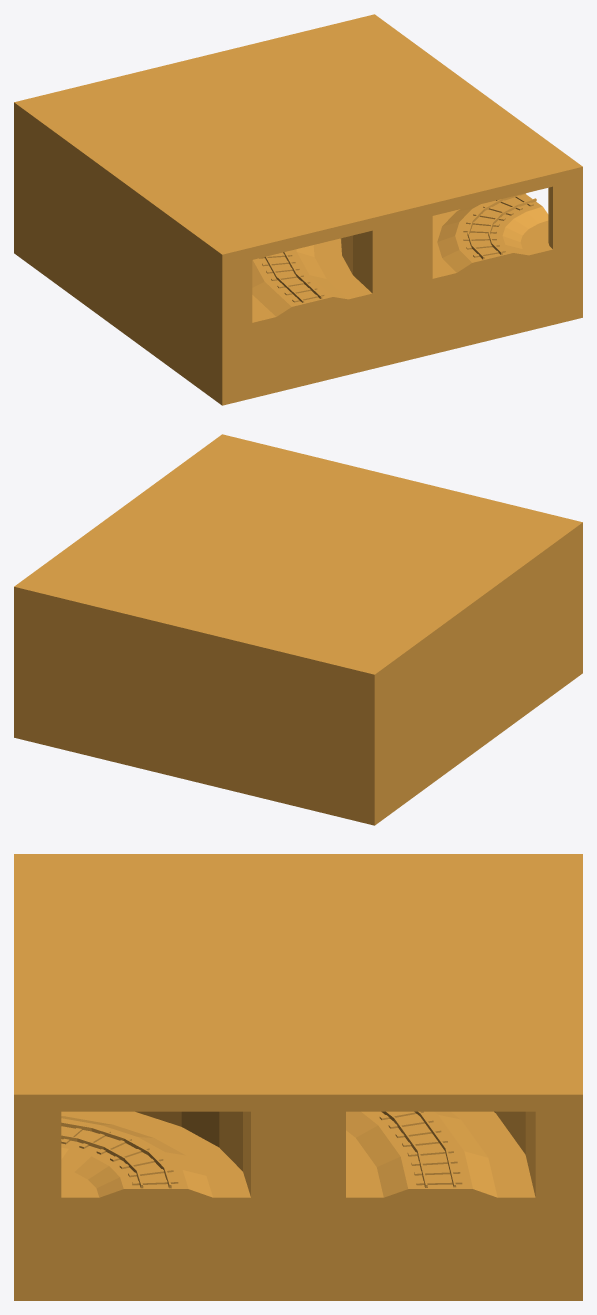
Rendered from tile-rail-tunnel-curve-double.glb.
3 views of the same model, one above another, from view 1: azimuth 30°, elevation 25°; view 2: azimuth 150°, elevation 25°; view 3: azimuth 270°, elevation 25° (orthographic). The views are drawn at different scales.
Parts seen in each view (by area): view 1: tile-rail-tunnel-curve-double; view 2: tile-rail-tunnel-curve-double; view 3: tile-rail-tunnel-curve-double.
Part boxes in pixels (x1=…): tile-rail-tunnel-curve-double: x1=14, y1=14, x2=582, y2=405; tile-rail-tunnel-curve-double: x1=14, y1=434, x2=582, y2=825; tile-rail-tunnel-curve-double: x1=14, y1=854, x2=582, y2=1300.
Bounding box in the file's own units: 30 × 12 × 30.
